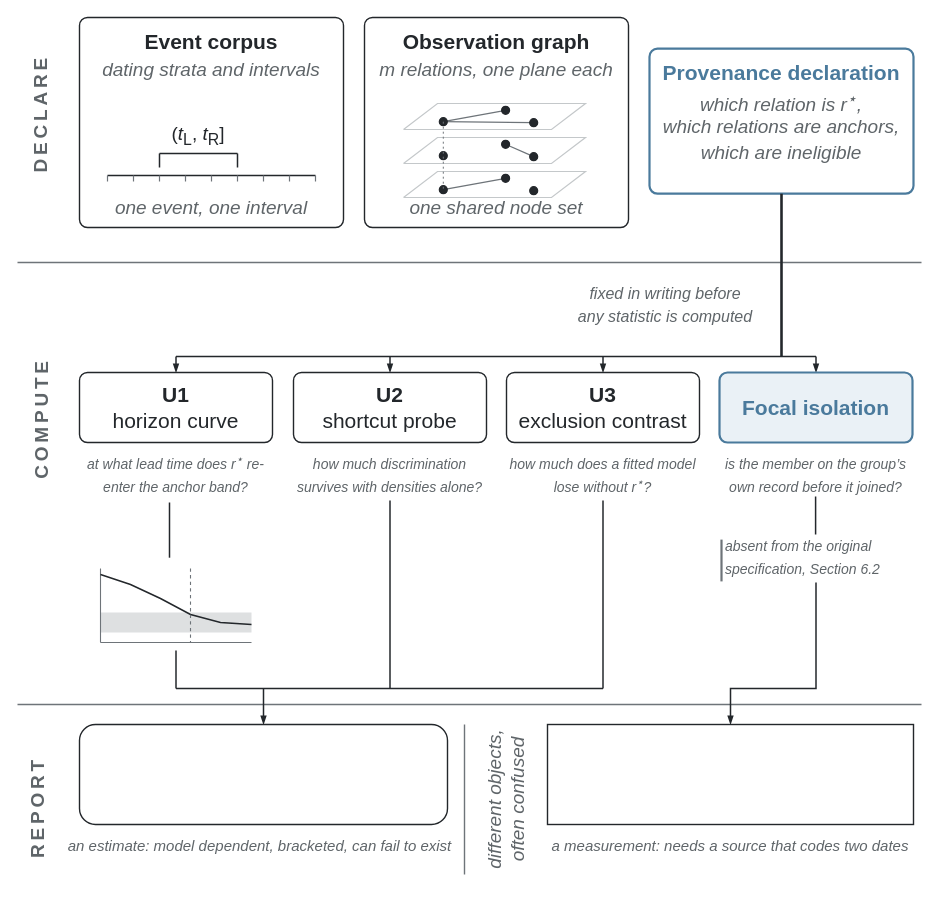
The diagram is 941 pixels wide and 920 high, and some of its shapes have lost their labels. Each missing label, with the box of its shape:
measured back-dating width: (546, 723, 914, 825)
Δ ⋆ interval [ Δ ⋆ lo , Δ ⋆ hi ]: (78, 723, 448, 825)
